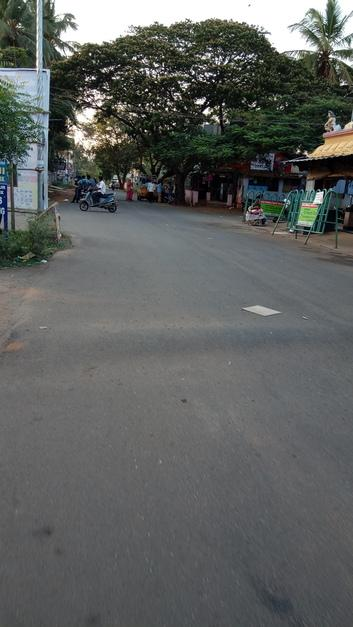speed-bump: (11, 313, 350, 359)
